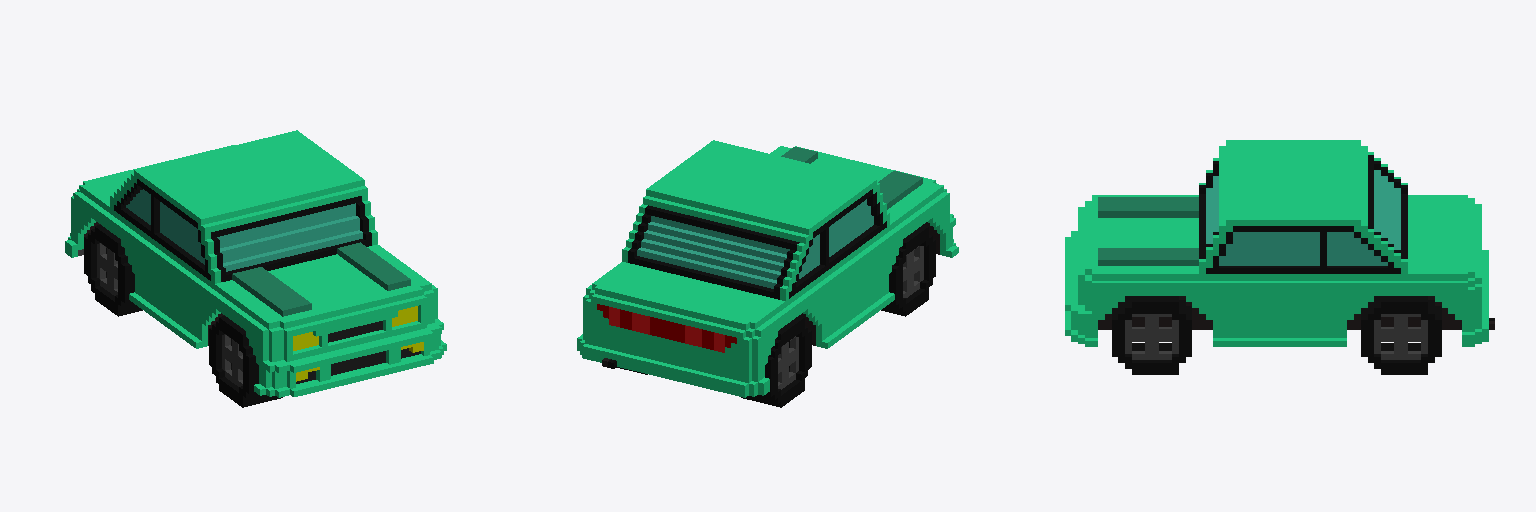
3 renders of one model, left to right at view 1: azimuth 30°, elevation 25°; view 2: azimuth 150°, elevation 25°; view 3: azimuth 270°, elevation 25°, orthographic.
Parts seen in each view (by area): view 1: object 1; view 2: object 1; view 3: object 1.
Part boxes in pixels (bbox=[...]): object 1: bbox=[65, 130, 446, 407]; object 1: bbox=[577, 140, 958, 407]; object 1: bbox=[1065, 140, 1494, 374].
Size of the model in its own units: 3.2 by 2.5 by 6.4.
1 materials, 1 textured.